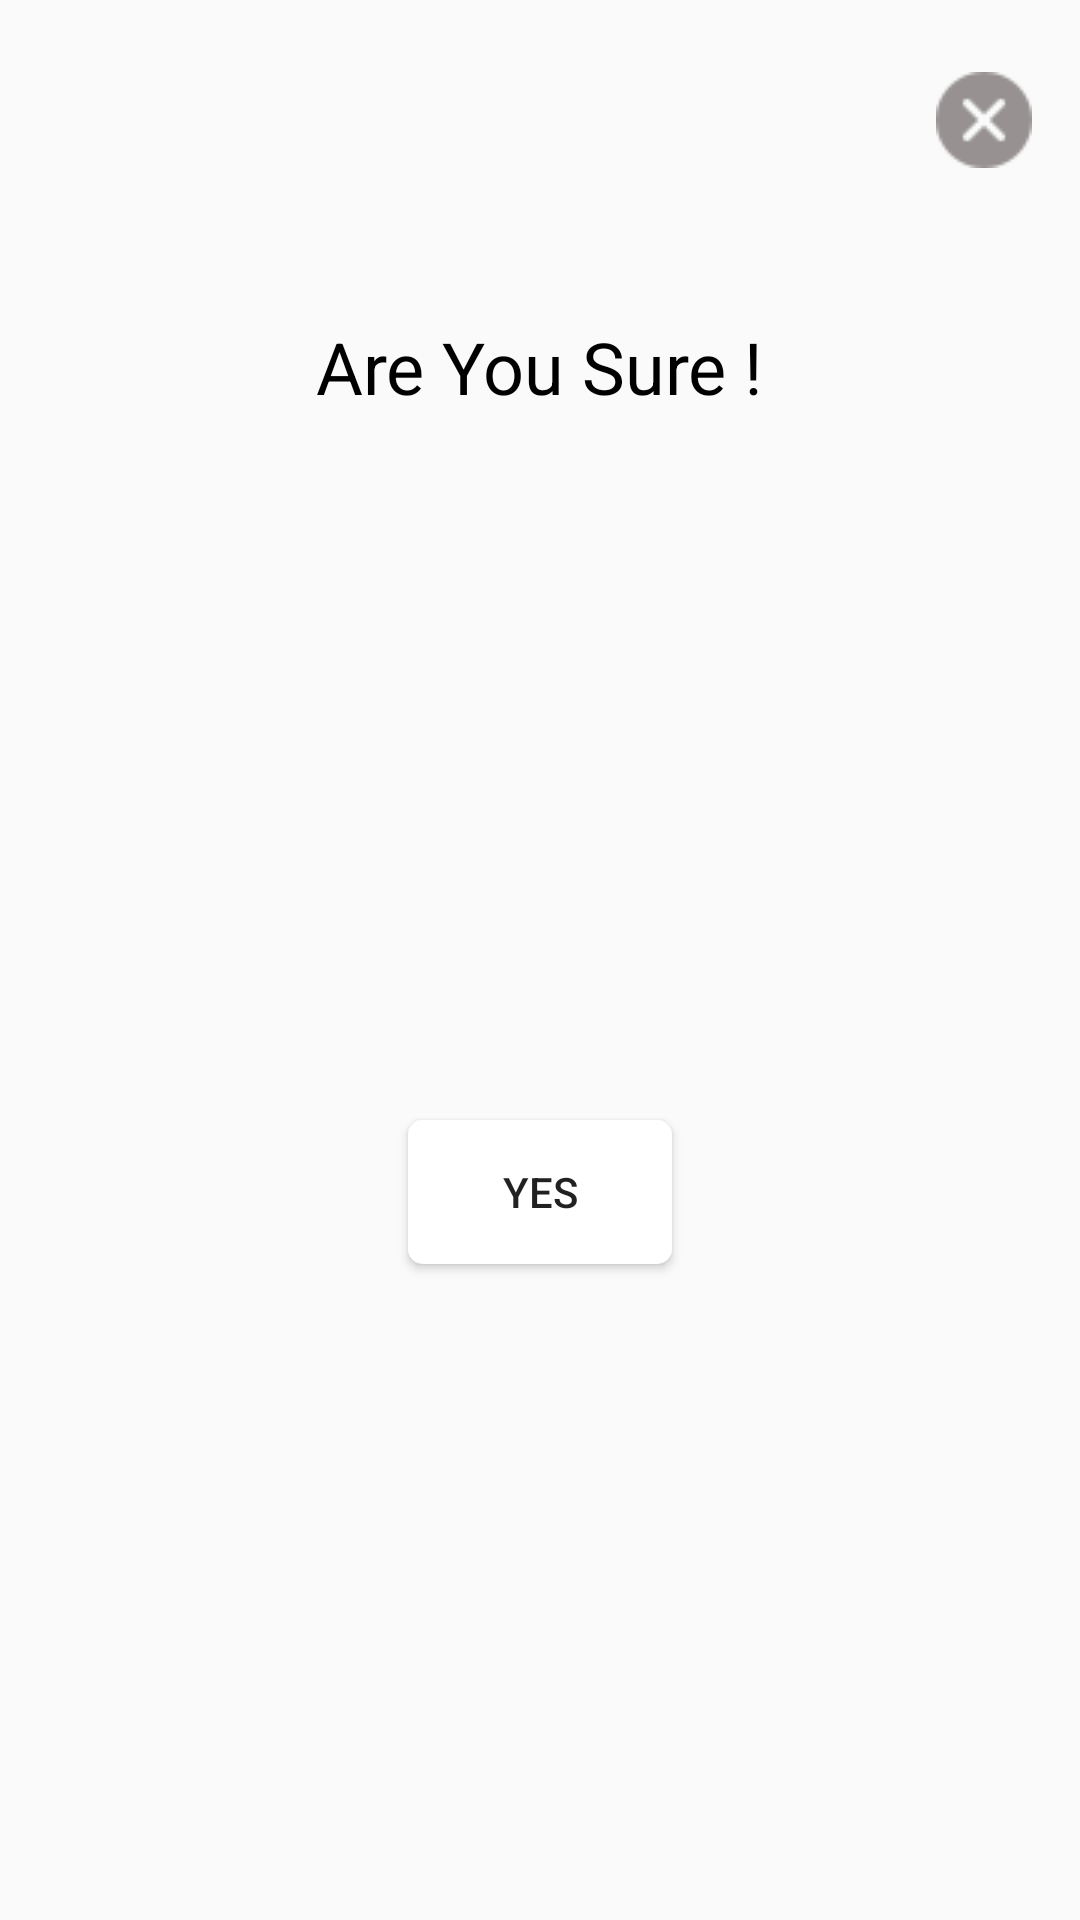

Locate icon controls on the screen. Image size 1080*1920, boxes as (x1, y1, x2, y2).
close: (936, 72, 1032, 168)
